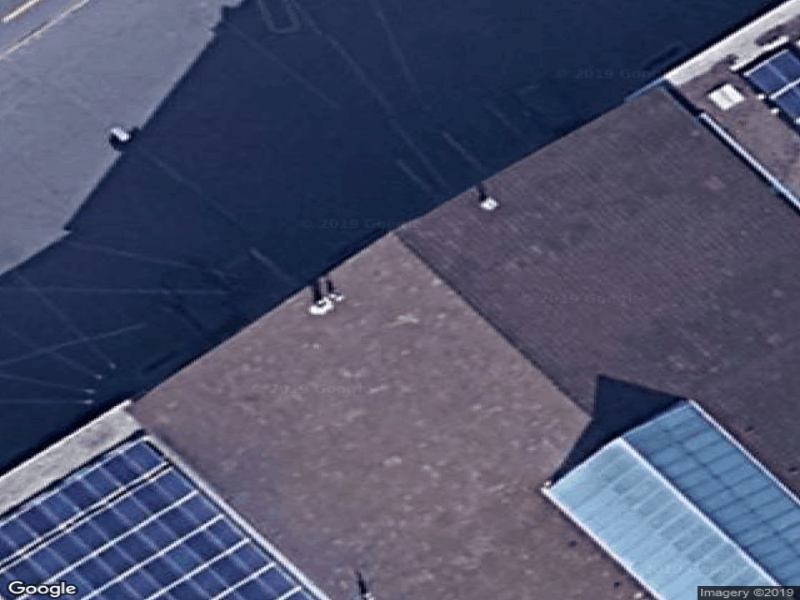pv: (1, 439, 320, 600)
